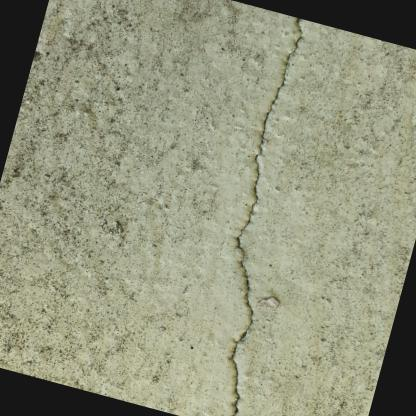crack: (229, 17, 301, 416)
